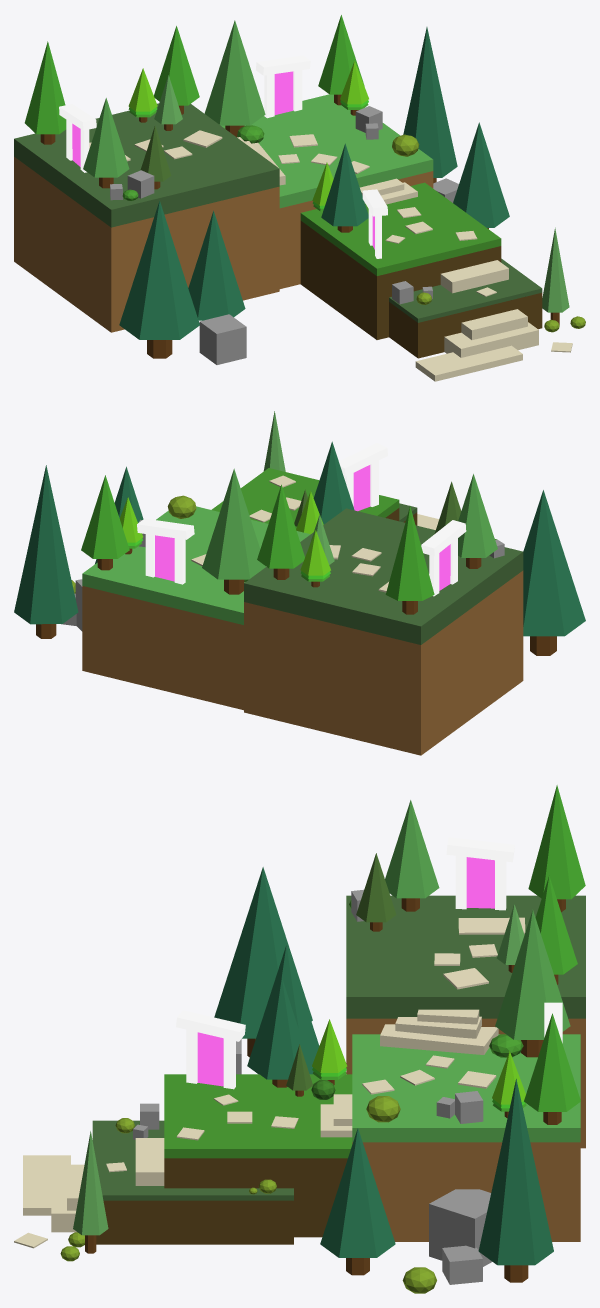
File: finalenvironment.glb
3 views of the same model, one above another, from view 1: azimuth 30°, elevation 25°; view 2: azimuth 150°, elevation 25°; view 3: azimuth 270°, elevation 25° (orthographic). The views are drawn at different scales.
Parts seen in each view (by area): view 1: terrains.001, terrains.002, terrains, terrains.003, trees.008, trees.014, trees.003, trees.009, trees.005, trees.012, trees.010, trees.006 (+20 smaller); view 2: terrains.001, terrains, trees.008, trees.014, trees.003, terrains.002, trees.012, trees.001, trees, trees.006, trees.010, trees.018 (+13 smaller); view 3: terrains, terrains.001, terrains.002, terrains.003, trees.014, trees.008, trees.005, trees.003, trees.012, rocks.004, trees, trees.006 (+26 smaller).
Boxes of the visible parts, x1=… form: terrains.001: x1=14, y1=103, x2=279, y2=332; terrains.002: x1=300, y1=182, x2=501, y2=339; terrains: x1=221, y1=94, x2=433, y2=288; terrains.003: x1=389, y1=258, x2=542, y2=358; trees.008: x1=119, y1=201, x2=199, y2=358; trees.014: x1=403, y1=27, x2=457, y2=183; trees.003: x1=204, y1=20, x2=265, y2=137; trees.009: x1=188, y1=211, x2=245, y2=320; trees.005: x1=453, y1=122, x2=509, y2=228; trees.012: x1=24, y1=41, x2=66, y2=144; trees.010: x1=321, y1=143, x2=368, y2=232; trees.006: x1=83, y1=98, x2=129, y2=188; terrains.001: x1=244, y1=508, x2=523, y2=755; terrains: x1=82, y1=506, x2=310, y2=710; trees.008: x1=523, y1=490, x2=585, y2=655; trees.014: x1=14, y1=465, x2=78, y2=638; trees.003: x1=202, y1=468, x2=265, y2=594; terrains.002: x1=211, y1=468, x2=399, y2=523; trees.012: x1=385, y1=506, x2=434, y2=614; trees.001: x1=257, y1=484, x2=304, y2=579; trees: x1=81, y1=475, x2=129, y2=570; trees.006: x1=458, y1=474, x2=497, y2=568; trees.010: x1=313, y1=441, x2=354, y2=524; trees.018: x1=300, y1=530, x2=330, y2=587; terrains: x1=352, y1=1034, x2=580, y2=1241; terrains.001: x1=346, y1=895, x2=585, y2=1148; terrains.002: x1=164, y1=1074, x2=352, y2=1237; terrains.003: x1=92, y1=1120, x2=293, y2=1244; trees.014: x1=478, y1=1079, x2=553, y2=1282; trees.008: x1=214, y1=867, x2=312, y2=1057; trees.005: x1=320, y1=1128, x2=395, y2=1275; trees.003: x1=495, y1=909, x2=570, y2=1057; trees.012: x1=528, y1=785, x2=585, y2=912; rocks.004: x1=429, y1=1189, x2=492, y2=1266; trees: x1=524, y1=1013, x2=580, y2=1124; trees.006: x1=385, y1=800, x2=439, y2=911.
Size of what is drawn, in the model's own units: 29.18 by 14.36 by 26.96.
